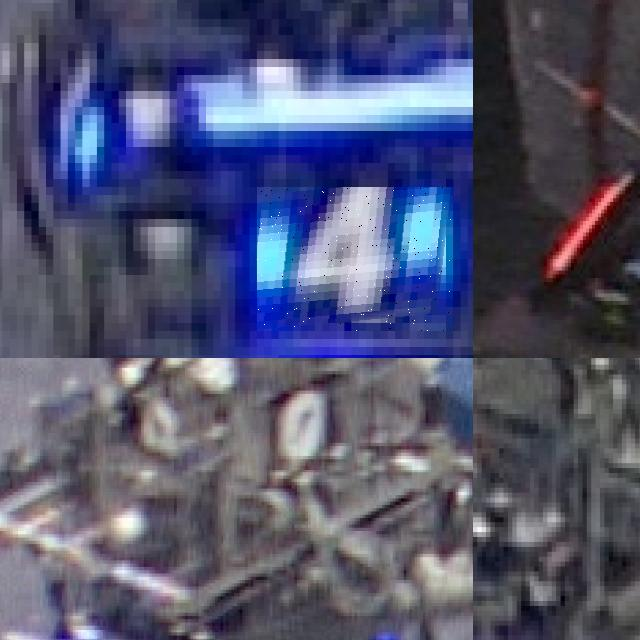B4: (257, 187, 453, 331)
